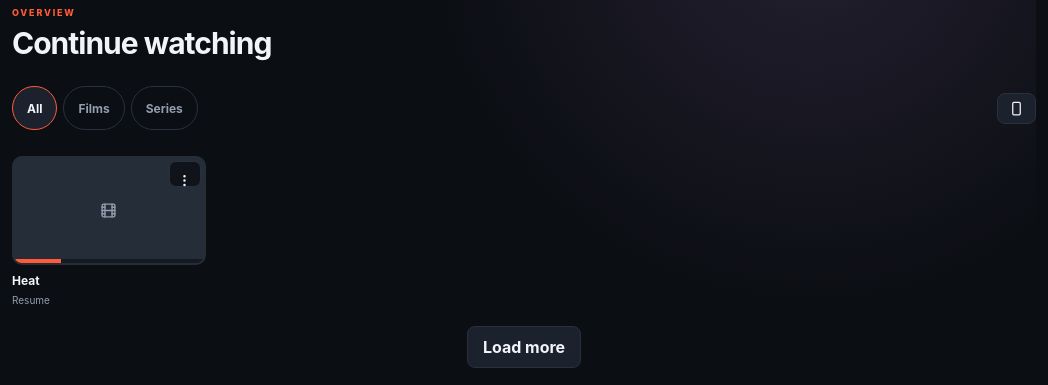
Test: ResumeView › offers more only when the server has more
Click the button "Load more" at (524, 347), box 467,326 -> 581,368
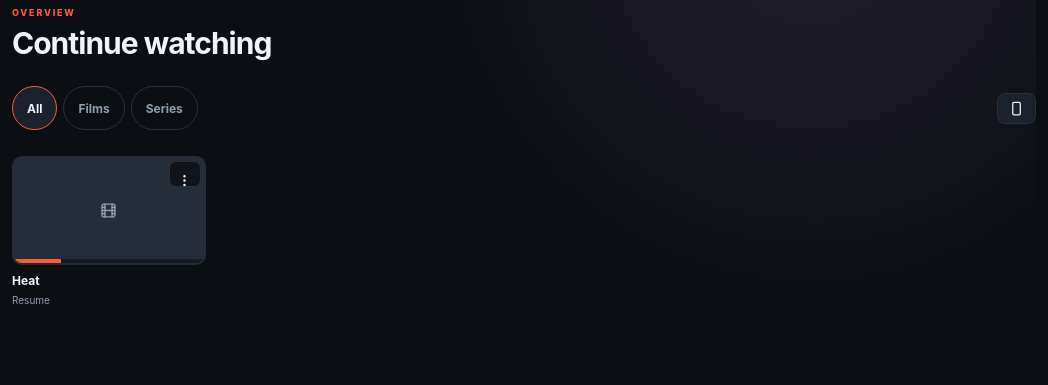
Now the element with class "load-more" is gone
